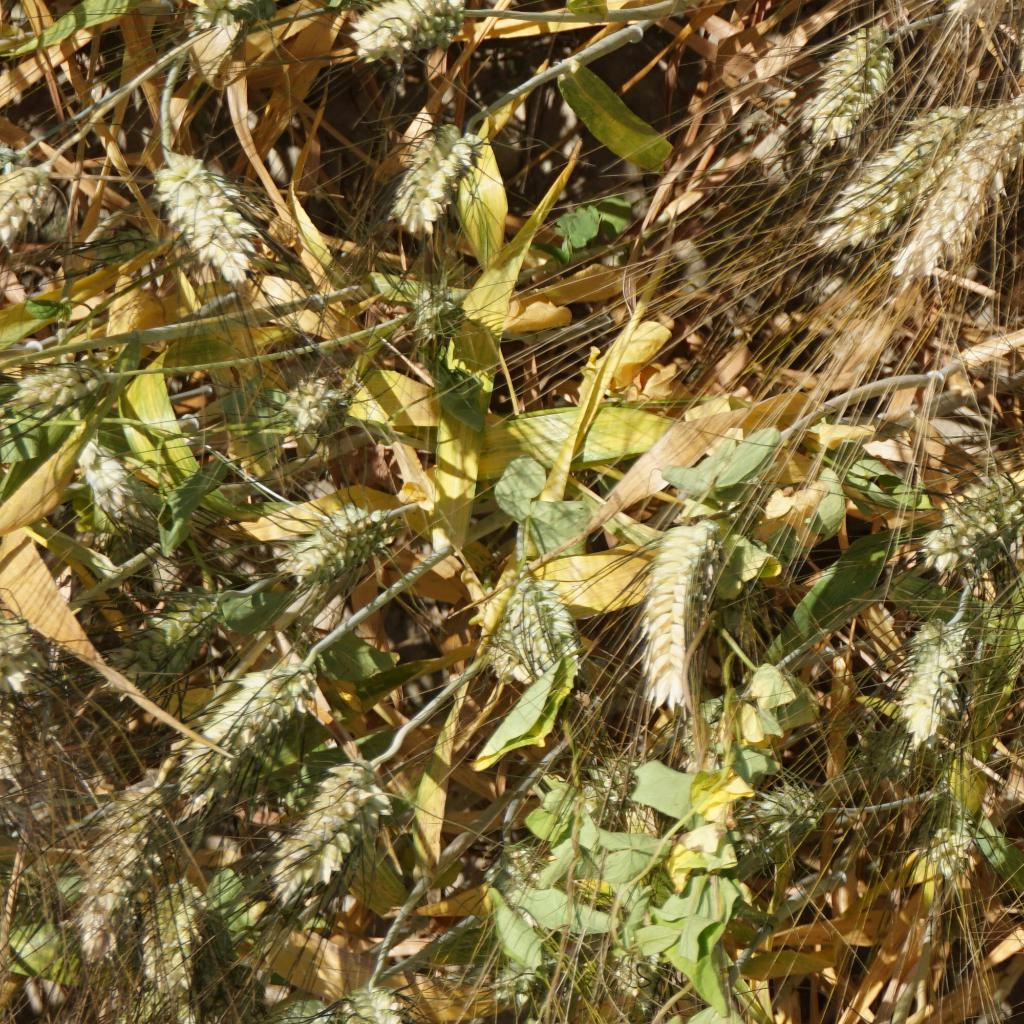0-0: (626, 517, 726, 715), (272, 754, 393, 903), (379, 114, 489, 246), (485, 552, 581, 700), (928, 112, 1024, 257), (174, 671, 307, 775), (47, 800, 146, 939), (163, 156, 267, 283), (797, 15, 897, 136), (894, 606, 968, 749), (848, 111, 939, 210), (118, 586, 217, 675), (343, 0, 478, 62), (931, 467, 1022, 558), (134, 877, 204, 988), (283, 503, 380, 573), (748, 774, 830, 850), (67, 440, 144, 519), (918, 783, 984, 875), (0, 178, 62, 265), (274, 376, 351, 441), (18, 355, 102, 406), (0, 619, 49, 695), (503, 835, 568, 890), (407, 281, 459, 345), (190, 0, 291, 32), (334, 981, 401, 1024), (867, 716, 912, 773), (495, 958, 545, 1008), (589, 745, 632, 803), (609, 945, 655, 992), (278, 989, 337, 1024), (0, 704, 22, 777)
